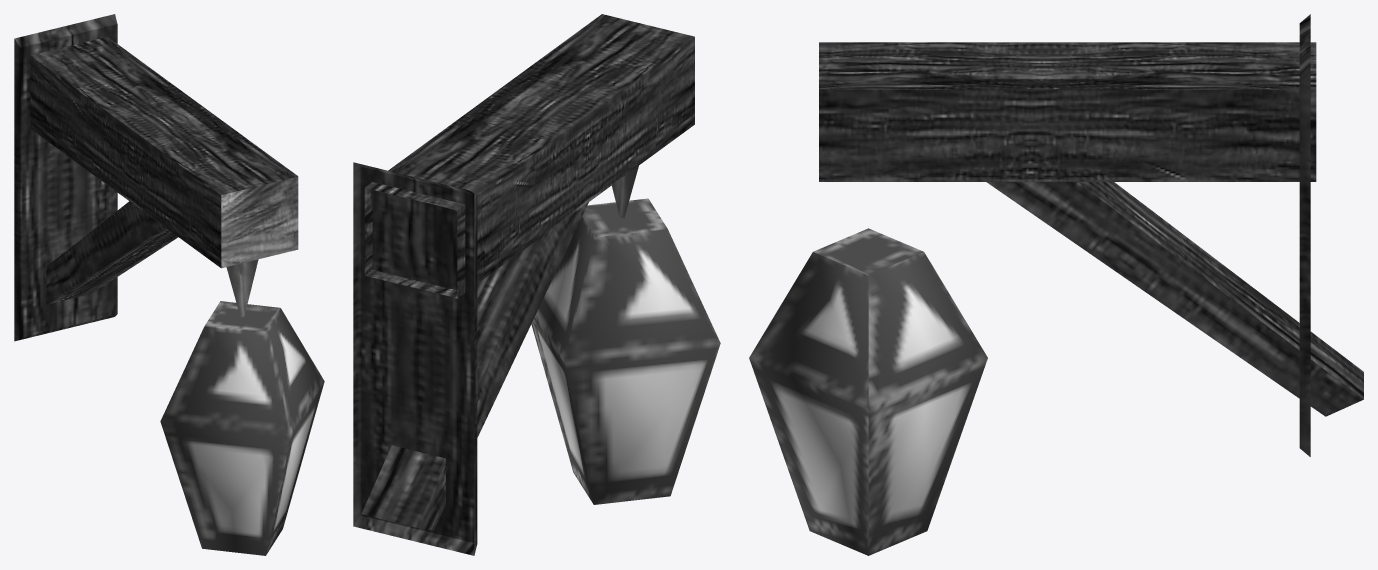
Rendered from StreetDeko_WallLamp.FBX.
The picture shows the model from 3 angles, left to right: view 1: azimuth 30°, elevation 25°; view 2: azimuth 150°, elevation 25°; view 3: azimuth 270°, elevation 25°; orthographic projection. The views are drawn at different scales.
Parts seen in each view (by area): view 1: Wall_Lamp; view 2: Wall_Lamp; view 3: Wall_Lamp.
Part boxes in pixels (x1,y1,x2,y2): Wall_Lamp: (14, 14, 324, 555); Wall_Lamp: (353, 14, 720, 555); Wall_Lamp: (749, 14, 1363, 555).
Bounding box in the file's own units: 54.13 × 121 × 139.
